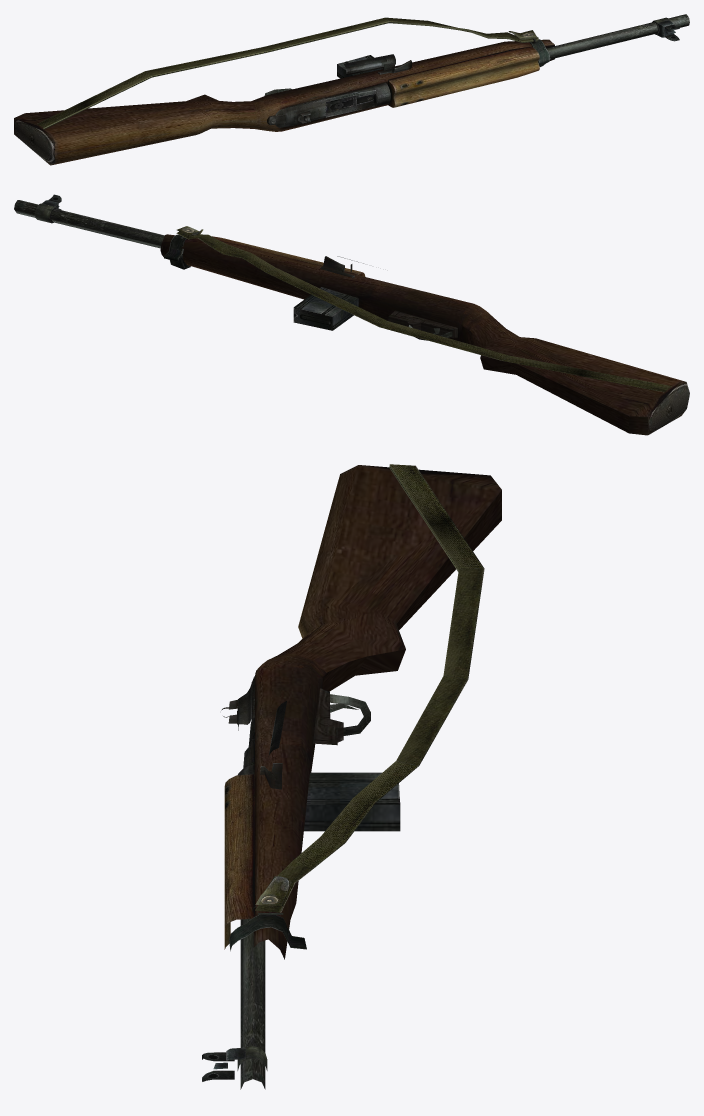
The model's file is viewmodel_carbine.glb.
3 renders of one model, top to bottom at view 1: azimuth 30°, elevation 25°; view 2: azimuth 150°, elevation 25°; view 3: azimuth 270°, elevation 25°, orthographic. The views are drawn at different scales.
Bounding box in the file's own units: 45.02 × 3.69 × 9.53.
1 material, 1 textured.
